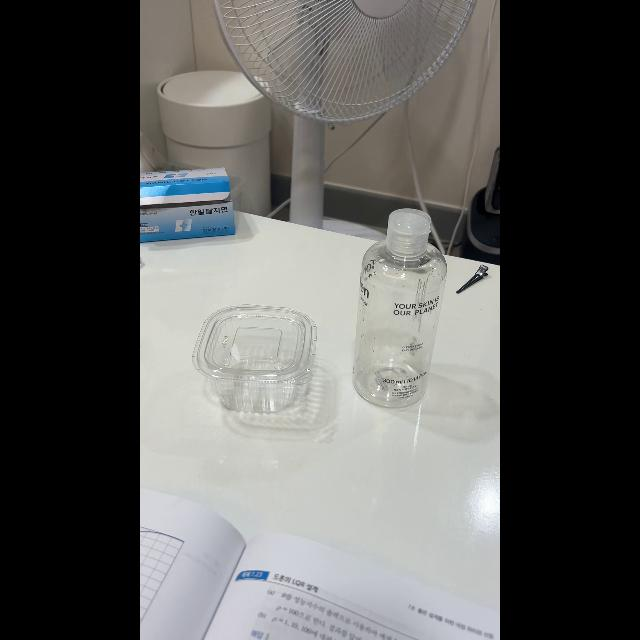clean: (357, 208, 443, 408), (195, 304, 318, 412)
